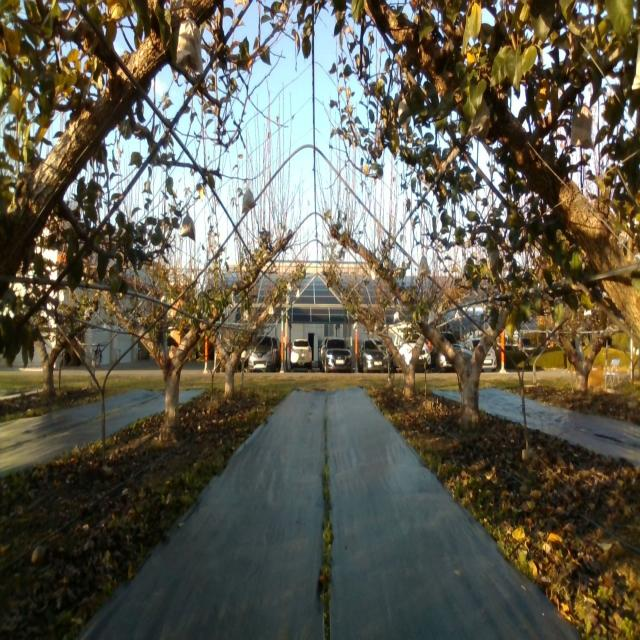pearbags: (171, 19, 204, 75), (571, 104, 592, 149), (242, 188, 256, 215), (182, 212, 196, 239), (418, 256, 430, 278)
